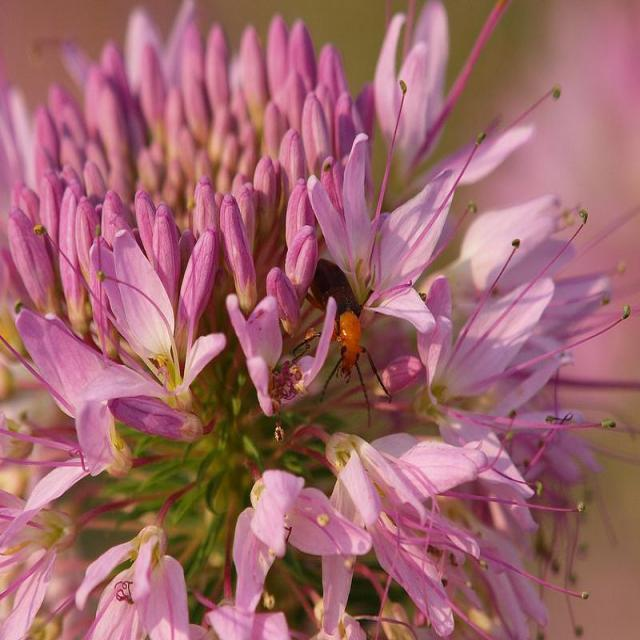BlisterBeetle-Adult-: (310, 247, 386, 416)
